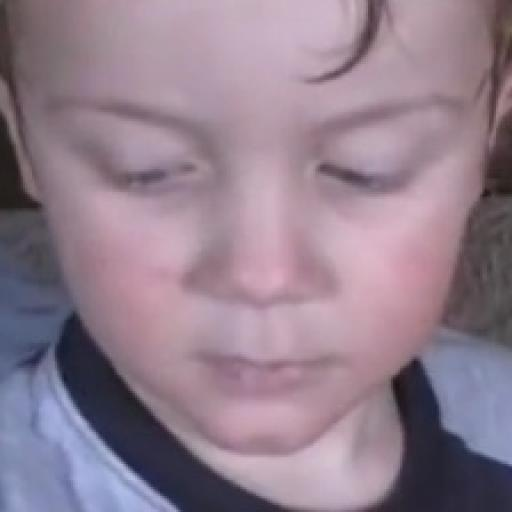Autism: (11, 32, 512, 512)
